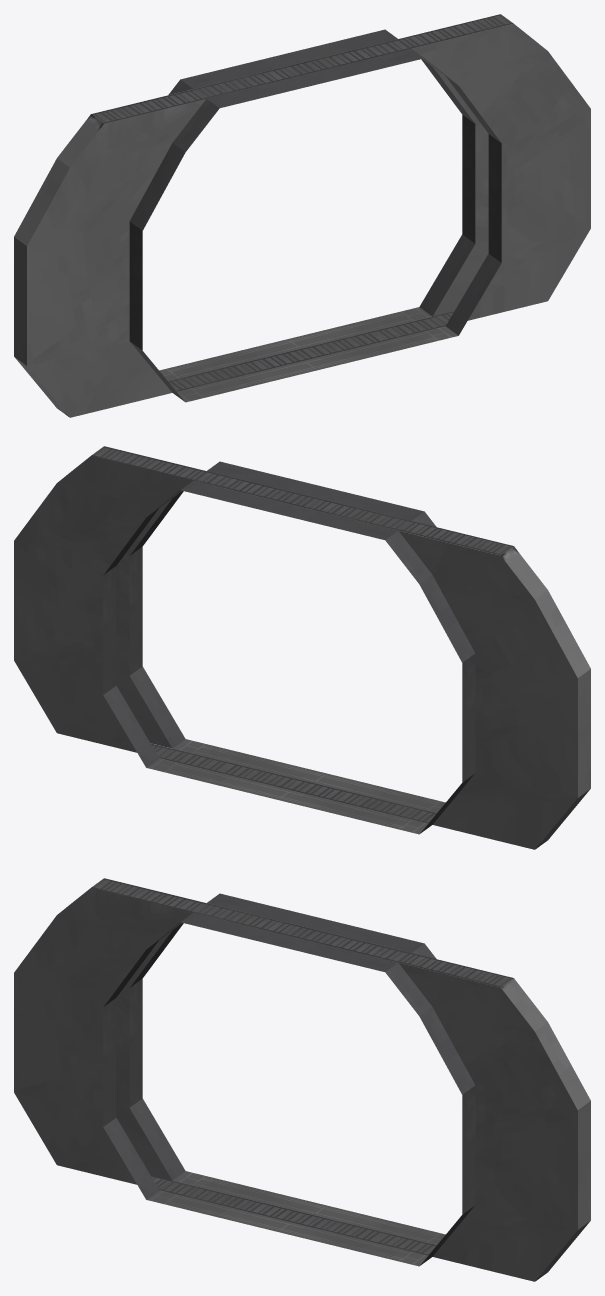
Rendered from gate_collfbx.fbx.
The picture shows the model from 3 angles, top to bottom: view 1: azimuth 30°, elevation 25°; view 2: azimuth 150°, elevation 25°; view 3: azimuth 330°, elevation 25°; orthographic projection.
Parts seen in each view (by area): view 1: hallway_oct_gate; view 2: hallway_oct_gate; view 3: hallway_oct_gate.
Boxes of the visible parts, box(x1,y1,x2,y2) form: hallway_oct_gate: box(14, 14, 590, 417); hallway_oct_gate: box(14, 446, 590, 849); hallway_oct_gate: box(14, 878, 590, 1281).
Bounding box in the file's own units: 826 × 400 × 100.
Materials: 1 (1 with a texture image).
